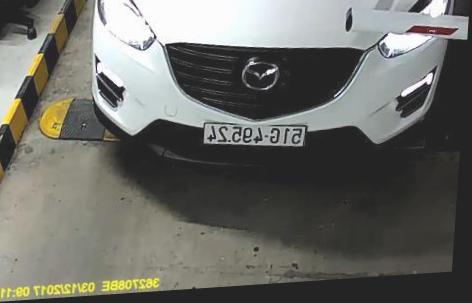License_Plate: (205, 117, 307, 151)
